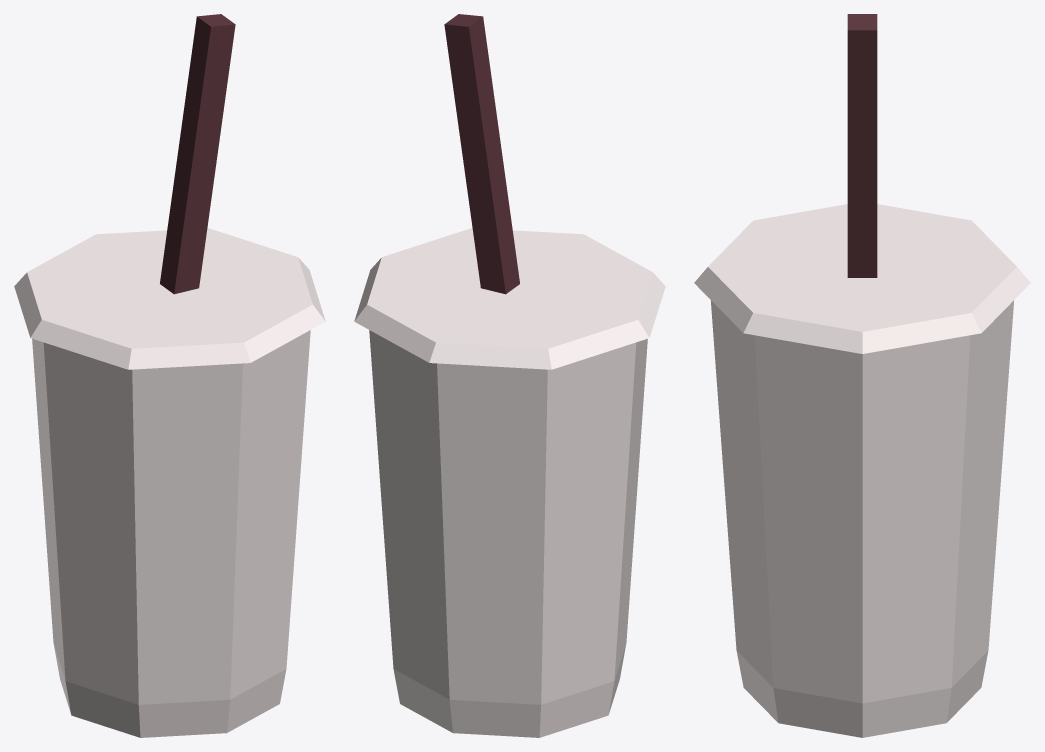
File: cup-plastic-bubble-tea.fbx
3 views of the same model, side by side, from view 1: azimuth 30°, elevation 25°; view 2: azimuth 150°, elevation 25°; view 3: azimuth 270°, elevation 25° (orthographic). The views are drawn at different scales.
Parts seen in each view (by area): view 1: cup-plastic-bubble-tea; view 2: cup-plastic-bubble-tea; view 3: cup-plastic-bubble-tea.
Part boxes in pixels (x1=…): cup-plastic-bubble-tea: x1=14, y1=14, x2=325, y2=737; cup-plastic-bubble-tea: x1=354, y1=14, x2=665, y2=737; cup-plastic-bubble-tea: x1=694, y1=14, x2=1030, y2=737.
Bounding box in the file's own units: 0.1094 × 0.2475 × 0.1094.
